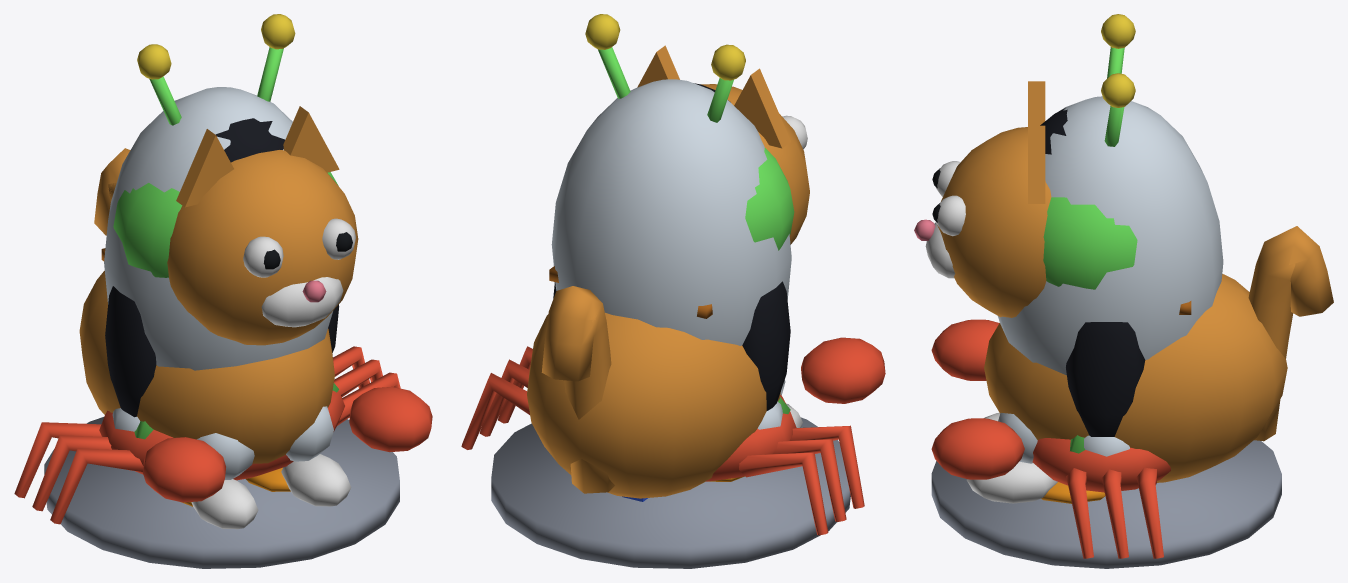
Rendered from pets.glb.
The picture shows the model from 3 angles, left to right: view 1: azimuth 30°, elevation 25°; view 2: azimuth 150°, elevation 25°; view 3: azimuth 270°, elevation 25°; orthographic projection. The views are drawn at different scales.
Parts seen in each view (by area): view 1: PetCat, PetAlien, PetGhost, PetCrab, PetPenguin; view 2: PetGhost, PetCat, PetAlien, PetCrab, PetPenguin; view 3: PetCat, PetGhost, PetAlien, PetCrab, PetPenguin.
Part boxes in pixels (x1,y1,x2,y2): PetCat: [79, 106, 358, 529]; PetAlien: [44, 14, 399, 568]; PetGhost: [104, 87, 333, 479]; PetCrab: [14, 346, 432, 524]; PetPenguin: [105, 118, 339, 506]; PetGhost: [551, 79, 791, 429]; PetCat: [527, 45, 809, 498]; PetAlien: [491, 14, 850, 568]; PetCrab: [461, 337, 885, 535]; PetPenguin: [553, 83, 790, 481]; PetCat: [914, 81, 1333, 503]; PetGhost: [998, 96, 1223, 463]; PetAlien: [931, 14, 1281, 568]; PetCrab: [931, 319, 1170, 558]; PetPenguin: [1040, 108, 1145, 503].
Bounding box in the file's own units: 0.6979 × 0.85 × 0.7193.
